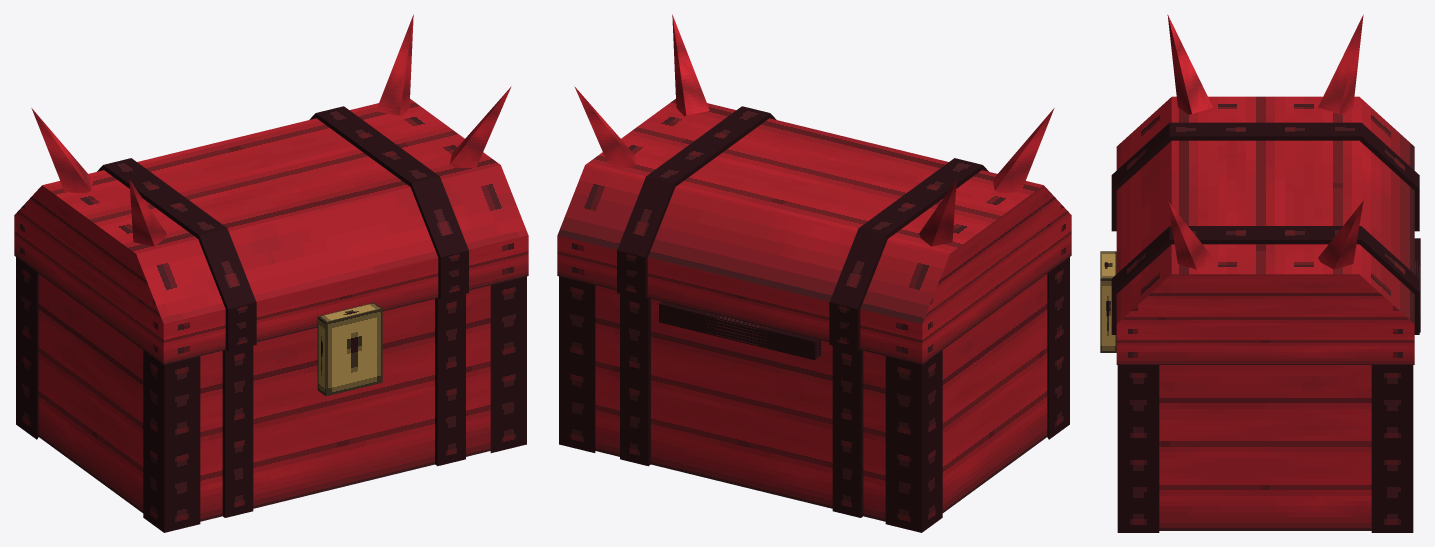
The model's file is chest_vampire.glb.
3 renders of one model, left to right at view 1: azimuth 30°, elevation 25°; view 2: azimuth 150°, elevation 25°; view 3: azimuth 270°, elevation 25°, orthographic.
Visible parts, largest first — view 1: lid, base, lock; view 2: lid, base; view 3: lid, base, lock.
Part boxes in pixels (x1,y1,x2,y2): lid: [14, 14, 528, 364]; base: [16, 257, 526, 532]; lock: [317, 302, 382, 396]; lid: [557, 14, 1071, 364]; base: [559, 257, 1069, 532]; lid: [1111, 14, 1419, 364]; base: [1117, 238, 1420, 532]; lock: [1100, 251, 1116, 352].
Size of the model in its own units: 1.08 by 0.912 by 0.785.
Materials: 1 (1 with a texture image).
